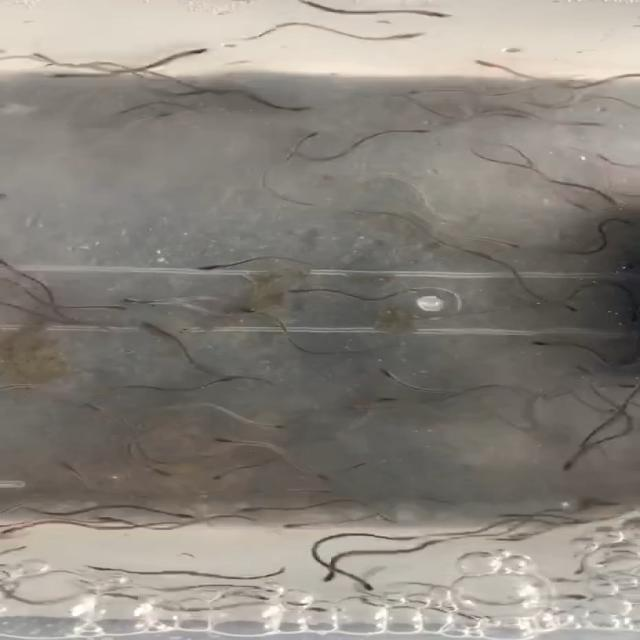active_glass_eel: (212, 432, 256, 451), (121, 291, 171, 307), (139, 319, 175, 339), (550, 590, 594, 606), (138, 460, 177, 478), (415, 6, 456, 23), (48, 456, 82, 476), (524, 334, 569, 349), (84, 300, 132, 314), (274, 281, 316, 297), (258, 417, 296, 434), (466, 56, 501, 74), (212, 466, 247, 484), (494, 528, 536, 543), (547, 299, 585, 315), (307, 602, 345, 618), (408, 81, 448, 96), (492, 236, 532, 251), (376, 367, 410, 384), (366, 392, 406, 406), (386, 32, 432, 44), (556, 456, 585, 475), (349, 572, 378, 591), (394, 125, 436, 138), (316, 566, 342, 586), (159, 507, 202, 519), (225, 302, 258, 317), (177, 46, 215, 59), (198, 258, 233, 272), (151, 108, 188, 121), (282, 102, 316, 115), (0, 524, 34, 537), (241, 502, 272, 516), (284, 519, 322, 530), (91, 512, 126, 522), (300, 128, 319, 145)
